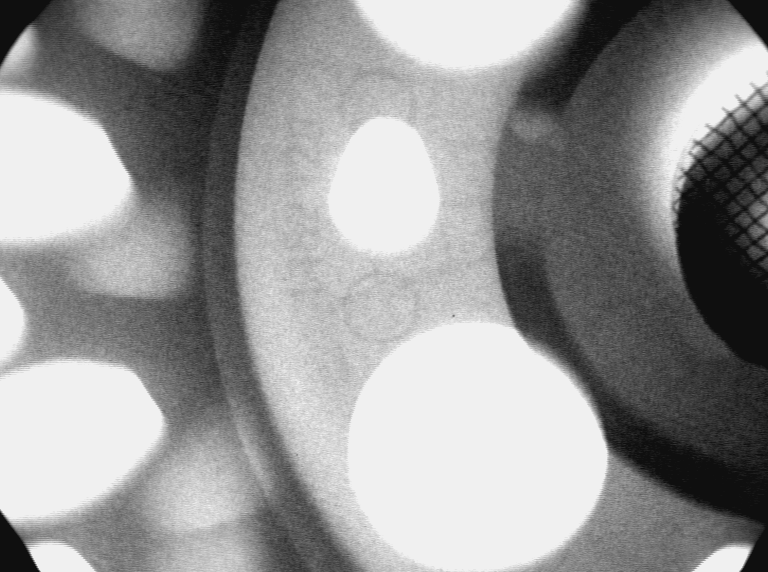defect: (508, 101, 569, 151)
